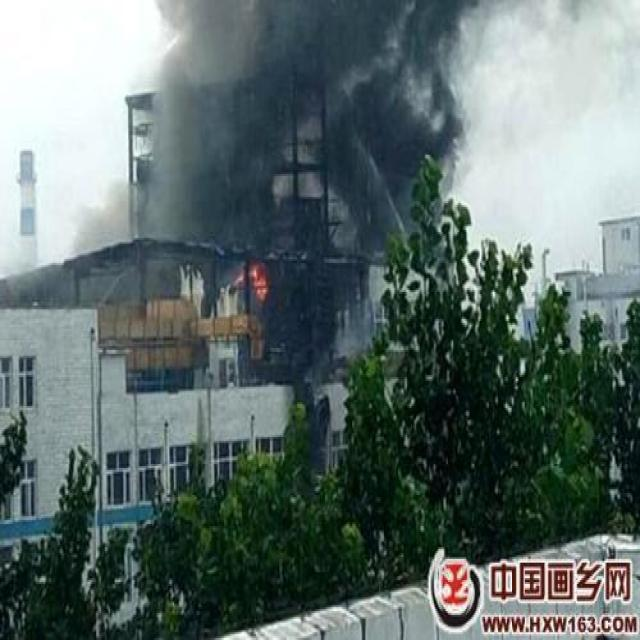fire: (247, 261, 269, 298)
smoke: (75, 0, 516, 273)
